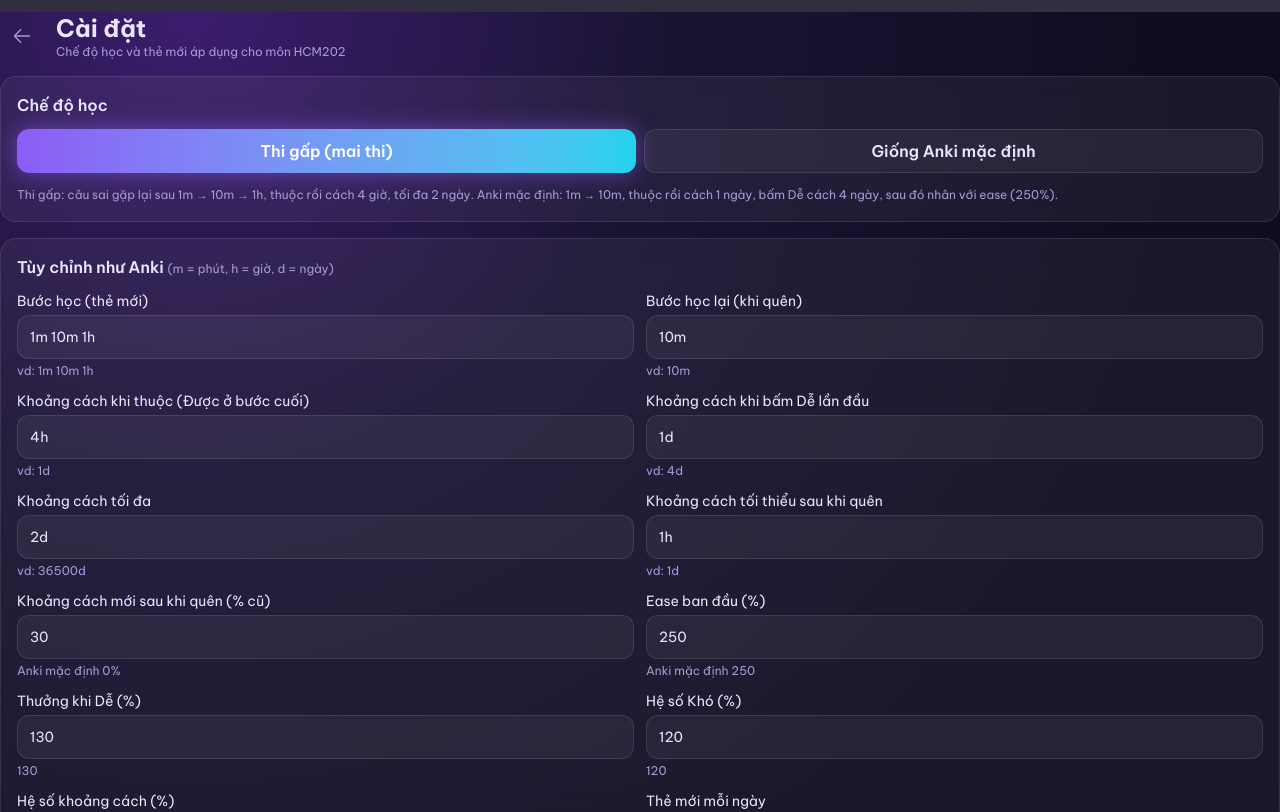
it: chọn chế độ Anki mặc định cập nhật cấu hình và form
Click the button "Giống Anki mặc định" at (954, 151), box [644,129,1263,173]
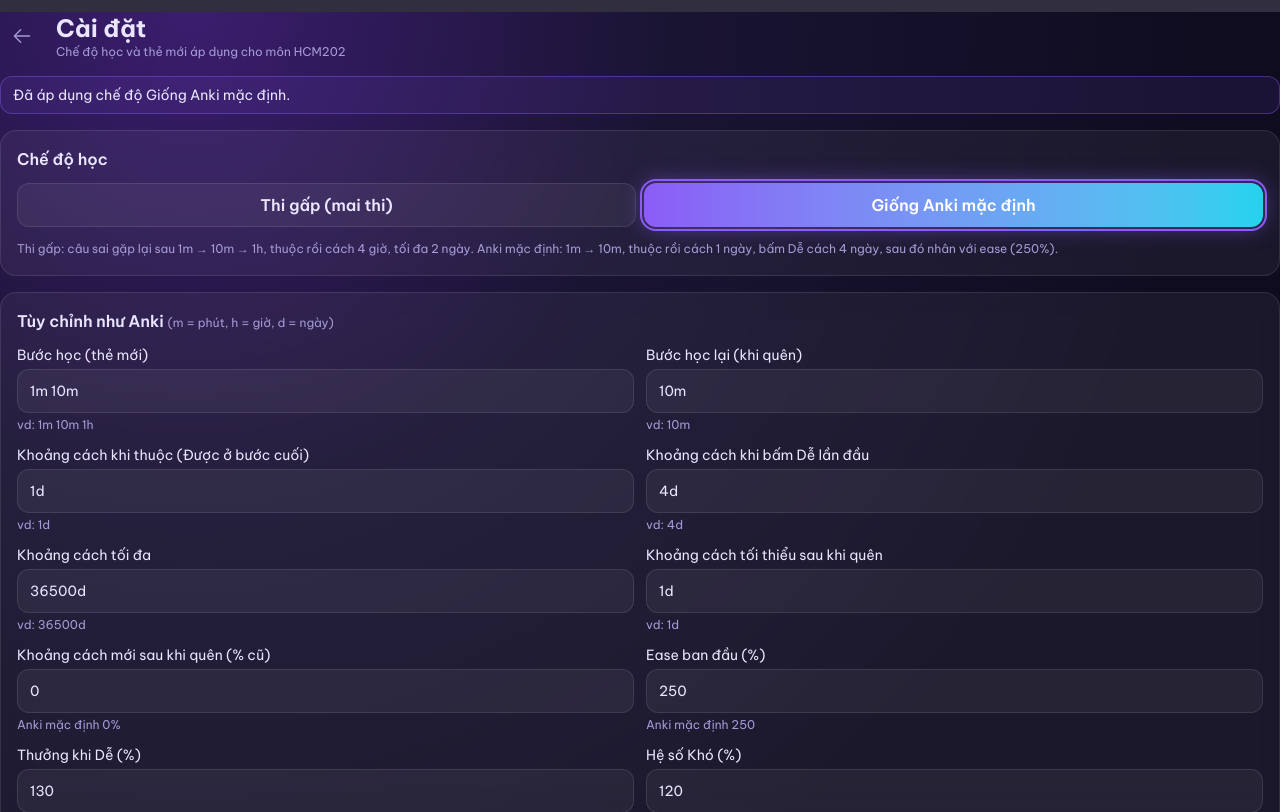
Check: the field labelled "Bước học (thẻ mới)" holds "1m 10m", box [17,368,634,412]
